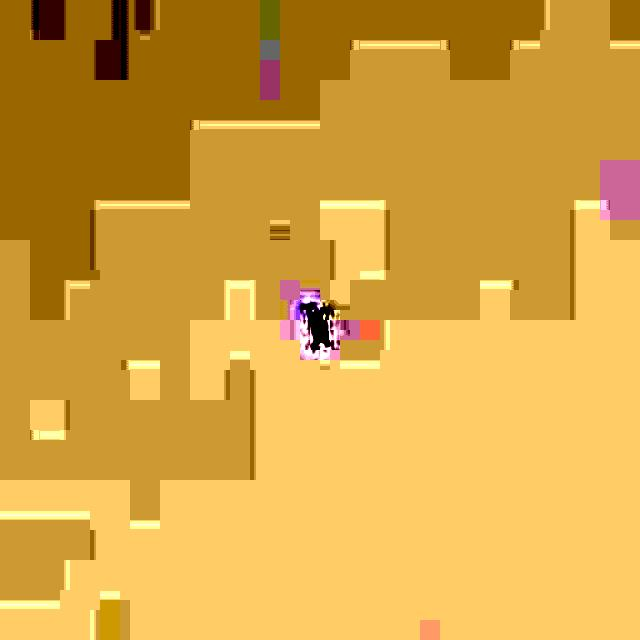drone: (296, 288, 346, 355)
